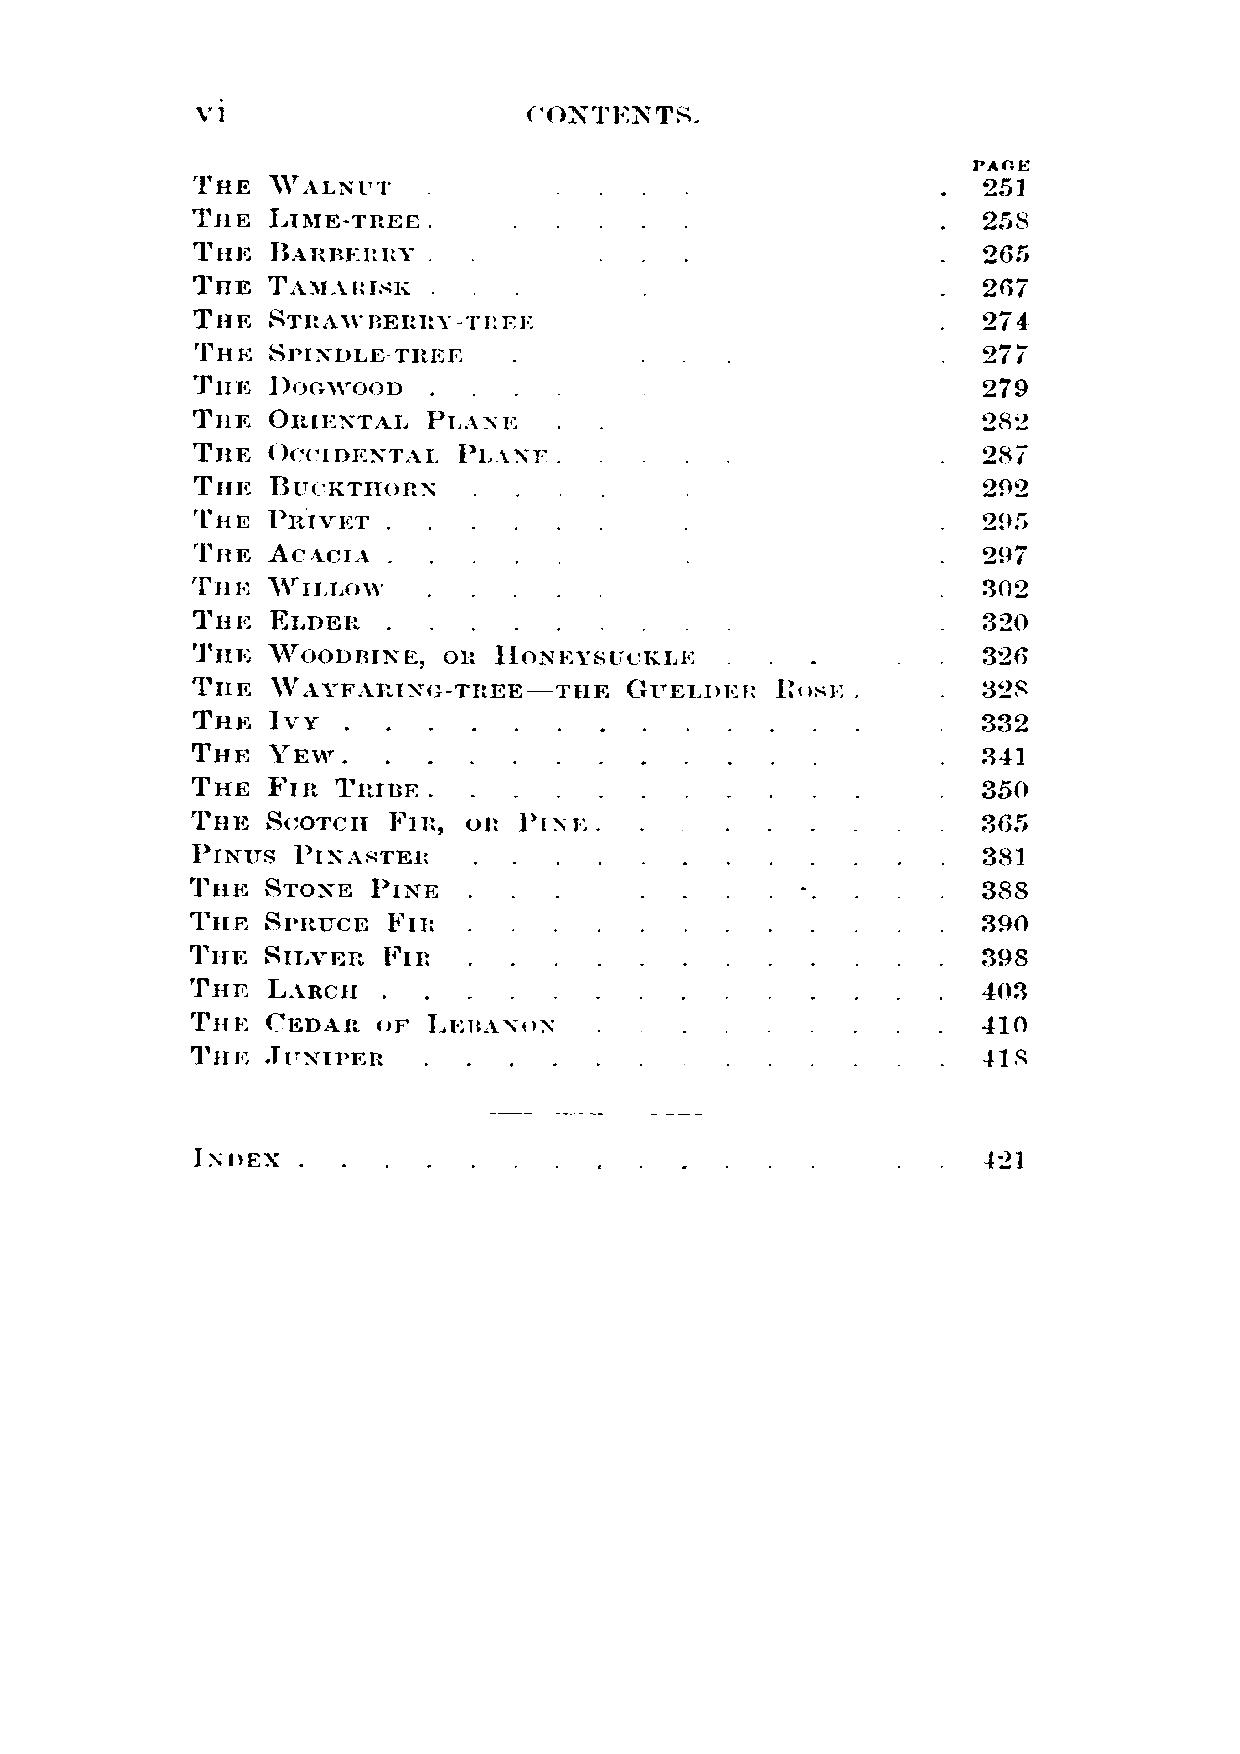TOC_chapter: (191, 636, 698, 674), (191, 674, 849, 699), (184, 801, 586, 835), (187, 1008, 556, 1039), (188, 437, 557, 467), (191, 403, 525, 435), (191, 336, 472, 370), (184, 839, 435, 878), (191, 309, 542, 333), (188, 938, 436, 972), (184, 872, 442, 905), (188, 200, 425, 235), (191, 268, 417, 305), (181, 162, 395, 200), (187, 772, 425, 805), (188, 470, 436, 501), (188, 907, 437, 935), (193, 238, 417, 268), (188, 366, 403, 399), (188, 1041, 391, 1075), (191, 570, 384, 603), (187, 502, 374, 534), (191, 538, 378, 570), (187, 974, 362, 1007), (185, 737, 341, 772), (191, 603, 364, 633), (188, 707, 322, 735), (188, 1141, 287, 1176)
TOC_pagenumber: (972, 471, 1039, 505), (982, 803, 1033, 839), (978, 403, 1033, 433), (984, 235, 1033, 267), (974, 169, 1027, 199), (981, 271, 1031, 301), (980, 633, 1029, 663), (981, 305, 1032, 333), (981, 203, 1031, 231), (980, 538, 1029, 566), (974, 576, 1033, 599), (980, 910, 1032, 935), (980, 1041, 1031, 1067), (981, 674, 1029, 701), (982, 1143, 1027, 1172), (980, 370, 1031, 395), (984, 774, 1027, 803), (981, 945, 1031, 969), (982, 843, 1027, 870), (981, 507, 1029, 531), (981, 607, 1027, 632), (981, 1009, 1027, 1035), (982, 977, 1027, 1002), (981, 440, 1027, 464), (982, 739, 1024, 765), (984, 878, 1027, 902), (982, 711, 1028, 733), (982, 344, 1027, 362)
chapter: (519, 97, 705, 136)
